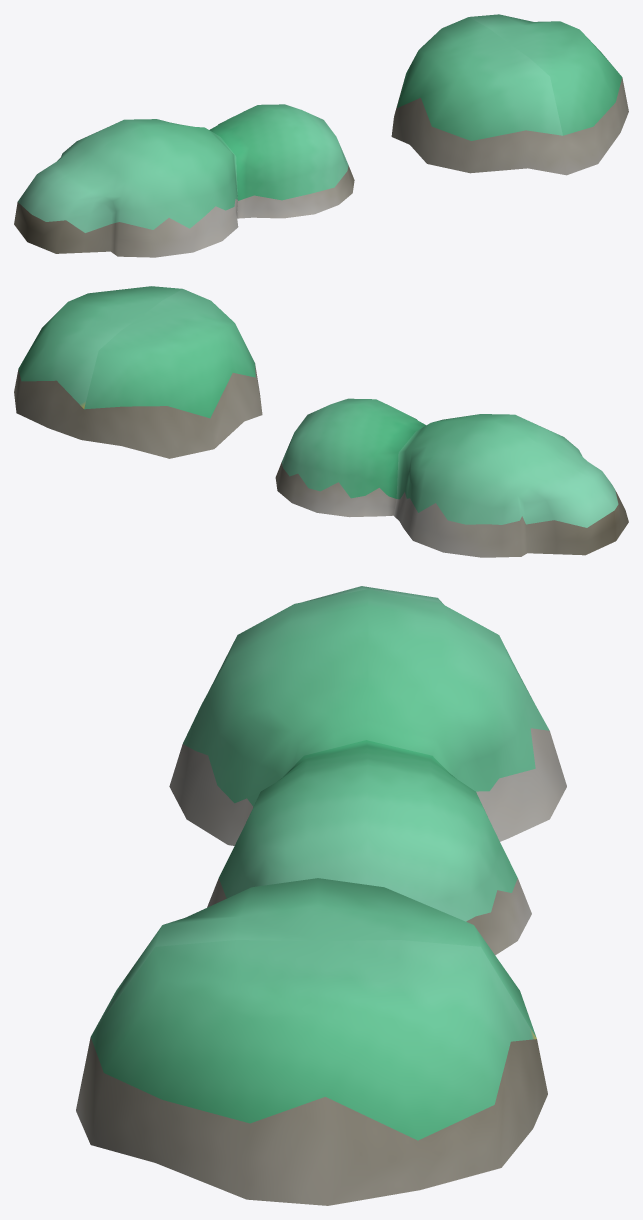
The model's file is gradientRocks.fbx.
3 renders of one model, top to bottom at view 1: azimuth 30°, elevation 25°; view 2: azimuth 150°, elevation 25°; view 3: azimuth 270°, elevation 25°, orthographic. The views are drawn at different scales.
Visible parts, largest first — view 1: Gradient_rock, Gradient_Rock2; view 2: Gradient_rock, Gradient_Rock2; view 3: Gradient_Rock2, Gradient_rock.
Part boxes in pixels (x1,y1,x2,y2): Gradient_rock: (14, 104, 354, 257); Gradient_Rock2: (391, 14, 628, 175); Gradient_rock: (275, 398, 628, 557); Gradient_Rock2: (14, 286, 262, 458); Gradient_Rock2: (76, 878, 547, 1205); Gradient_rock: (169, 586, 566, 955).
Bounding box in the file's own units: 580 × 91.91 × 214.
